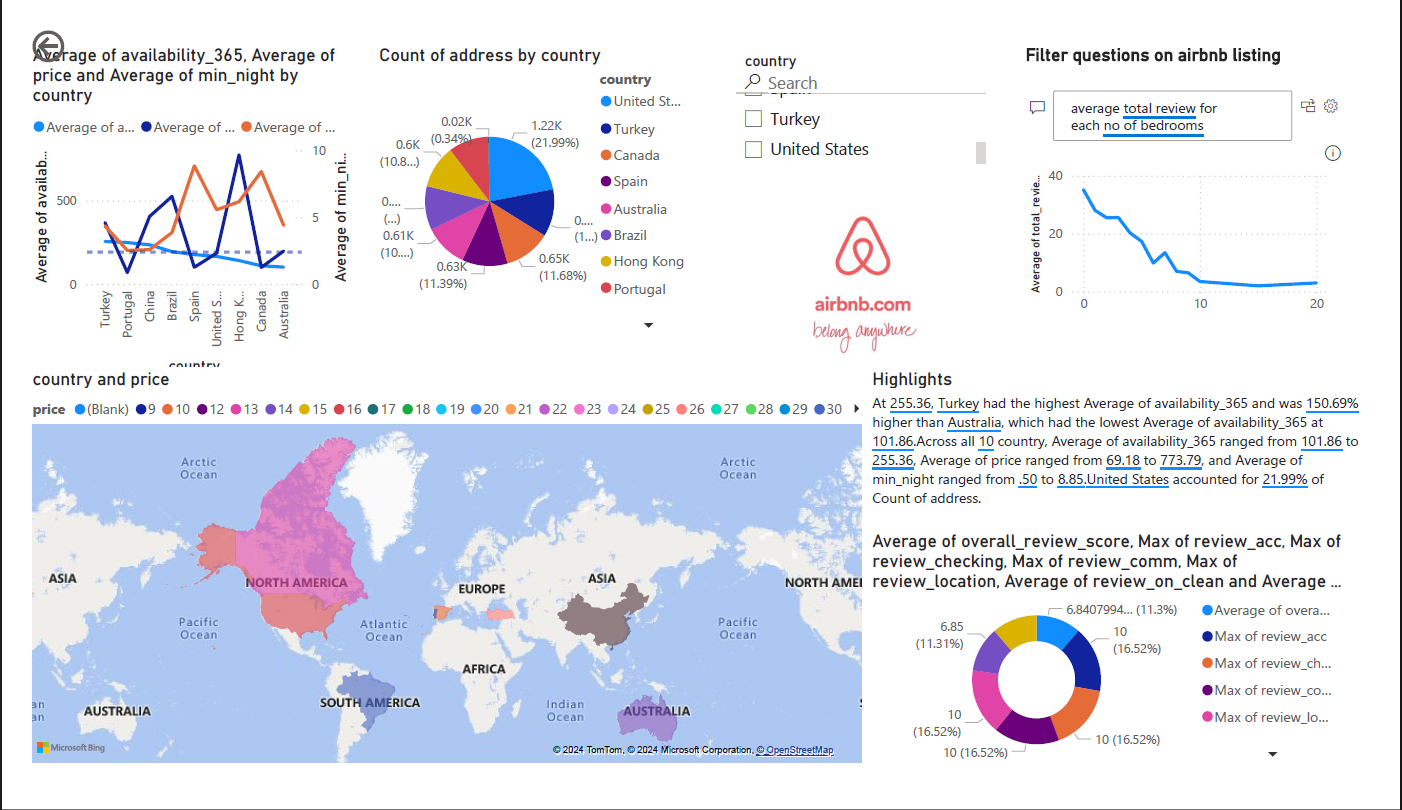

Layout of this report page (visuals, bound fields, positions):
{"tool":"powerbi","page":{"name":"Page 1","canvas":[1280,720],"ordinal":0},"visuals":[{"type":"lineChart","fields":{"Y":["Avg(airbnb6.availability_365)","Avg(airbnb6.price)"],"Category":["airbnb6.country"],"Y2":["Avg(airbnb6.min_night)"]},"box":[0,17.8,310.1,326.6],"z":0},{"type":"donutChart","fields":{"Y":["Avg(airbnb6.overall_review_score)","Max(airbnb6.review_acc)","Max(airbnb6.review_checking)","Max(airbnb6.review_comm)","Max(airbnb6.review_location)","Avg(airbnb6.review_on_clean)","Avg(airbnb6.review_val)"]},"box":[797.3,478.9,455.6,226.4],"z":1000},{"type":"pieChart","fields":{"Category":["airbnb6.country"],"Y":["CountNonNull(airbnb6.address)"]},"box":[329.3,17.8,310.1,279.9],"z":2000},{"type":"filledMap","fields":{"Category":["airbnb6.country"],"Series":["airbnb6.price"]},"box":[0,325.2,797.3,380.1],"z":3000},{"type":"qnaVisual","title":"Filter questions on airbnb listing","box":[942.7,17.8,310.1,279.9],"z":4000},{"type":"textbox","title":"Highlights","box":[797.3,325.2,473.4,149.6],"z":5000},{"type":"actionButton","box":[0,0,100,40],"z":6000},{"type":"slicer","fields":{"Values":["airbnb6.country"]},"box":[668.3,20.6,245.6,116.6],"z":7000},{"type":"image","box":[668.3,166,245.6,159.2],"z":8000}]}

Visuals, with their boxes in screenshot pixels (x1, y1, x2, y2), scaled from the page's 1280x720 canvas onto the 1402x810 screenshot:
lineChart - Avg(airbnb6.availability_365) x Avg(airbnb6.price): [0, 20, 340, 387]
donutChart - Avg(airbnb6.overall_review_score) x Max(airbnb6.review_acc): [873, 539, 1372, 793]
pieChart - airbnb6.country x CountNonNull(airbnb6.address): [361, 20, 700, 335]
filledMap - airbnb6.country x airbnb6.price: [0, 366, 873, 793]
"Filter questions on airbnb listing" qnaVisual: [1033, 20, 1372, 335]
"Highlights" textbox: [873, 366, 1392, 534]
actionButton: [0, 0, 110, 45]
slicer - airbnb6.country: [732, 23, 1001, 154]
image: [732, 187, 1001, 366]
